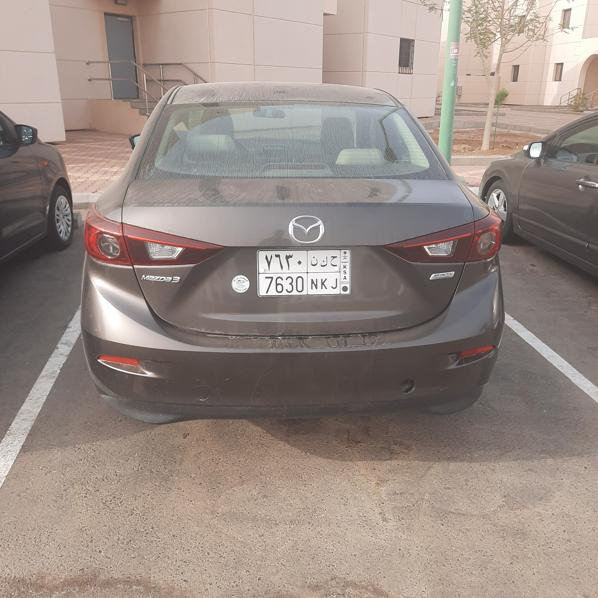numberplate: (258, 251, 351, 295)
